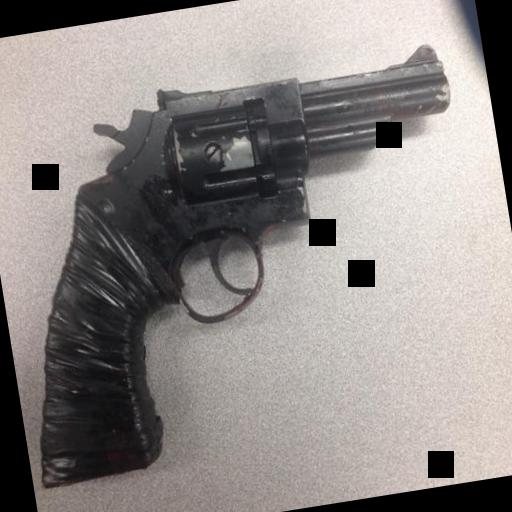Handgun: (0, 39, 502, 491)
